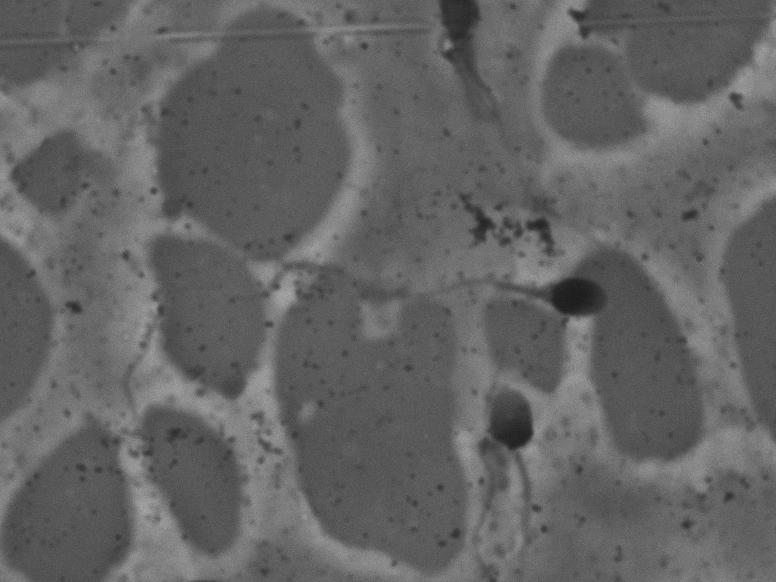Abnormal: (454, 368, 556, 576)
Normal: (209, 248, 628, 329)
